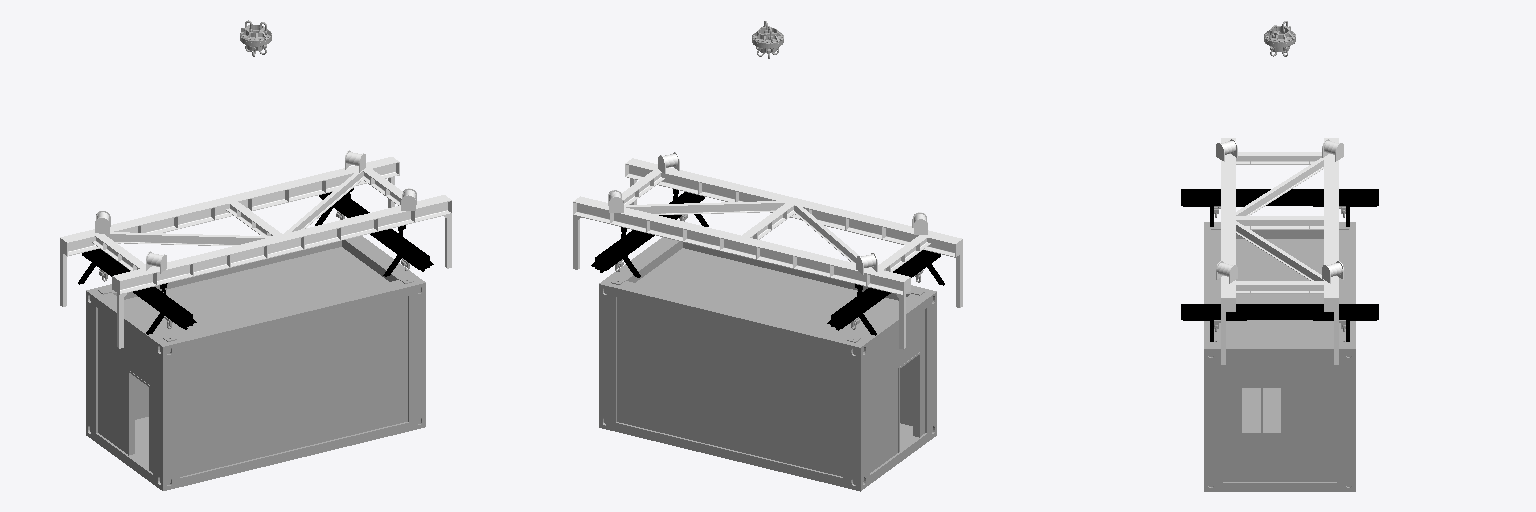
The robot description file, URDF, robot "hypa":
<?xml version="1.0" encoding="utf-8"?>
<!-- This URDF was automatically created by SolidWorks to URDF Exporter! Originally created by Stephen Brawner (brawner@gmail.com) 
     Commit Version: 1.6.0-4-g7f85cfe  Build Version: 1.6.7995.38578
     For more information, please see http://wiki.ros.org/sw_urdf_exporter -->
<robot
  name="hypa">
  <link
    name="base_link">
    <inertial>
      <origin
        xyz="-1.207E-09 3.1784E-09 -0.085377"
        rpy="0 0 0" />
      <mass
        value="386.11" />
      <inertia
        ixx="9.9128"
        ixy="0.13248"
        ixz="-9.8621E-08"
        iyy="9.881"
        iyz="-1.8585E-07"
        izz="18.221" />
    </inertial>
    <visual>
      <origin
        xyz="0 0 0"
        rpy="0 0 0" />
      <geometry>
        <mesh
          filename="package://hypa/meshes/base_link.STL" />
      </geometry>
      <material
        name="">
        <color
          rgba="0.75294 0.75294 0.75294 1" />
      </material>
    </visual>
    <collision>
      <origin
        xyz="0 0 0"
        rpy="0 0 0" />
      <geometry>
        <mesh
          filename="package://hypa/meshes/base_link.STL" />
      </geometry>
    </collision>
  </link>
  <link
    name="main_link">
    <inertial>
      <origin
        xyz="1.5384E-06 -7.9647E-06 -0.081467"
        rpy="0 0 0" />
      <mass
        value="2317.1" />
      <inertia
        ixx="2152"
        ixy="-0.00081995"
        ixz="-0.00016841"
        iyy="11953"
        iyz="0.0011132"
        izz="13870" />
    </inertial>
    <visual>
      <origin
        xyz="0 0 0"
        rpy="0 0 0" />
      <geometry>
        <mesh
          filename="package://hypa/meshes/main_link.STL" />
      </geometry>
      <material
        name="">
        <color
          rgba="1 1 1 1" />
      </material>
    </visual>
    <collision>
      <origin
        xyz="0 0 0"
        rpy="0 0 0" />
      <geometry>
        <mesh
          filename="package://hypa/meshes/main_link.STL" />
      </geometry>
    </collision>
  </link>
  <joint
    name="dummy_link_joint"
    type="prismatic">
    <origin
      xyz="0 0 -4.2"
      rpy="0 0 0" />
    <parent
      link="base_link" />
    <child
      link="main_link" />
    <axis
      xyz="-0.5863 -0.21593 0.78078" />
    <limit
      lower="0"
      upper="0"
      effort="0"
      velocity="0" />
  </joint>
  <link
    name="secondary_link">
    <inertial>
      <origin
        xyz="9.2715E-05 4.4503E-05 -0.0068453"
        rpy="0 0 0" />
      <mass
        value="926.8" />
      <inertia
        ixx="912.74"
        ixy="6.0283E-08"
        ixz="3.2016E-13"
        iyy="12.877"
        iyz="-6.4402E-11"
        izz="907.59" />
    </inertial>
    <visual>
      <origin
        xyz="0 0 0"
        rpy="0 0 0" />
      <geometry>
        <mesh
          filename="package://hypa/meshes/secondary_link.STL" />
      </geometry>
      <material
        name="">
        <color
          rgba="0 0 0 1" />
      </material>
    </visual>
    <collision>
      <origin
        xyz="0 0 0"
        rpy="0 0 0" />
      <geometry>
        <mesh
          filename="package://hypa/meshes/secondary_link.STL" />
      </geometry>
    </collision>
  </link>
  <joint
    name="secondary_link_joint"
    type="prismatic">
    <origin
      xyz="0 0 -0.7202"
      rpy="0 0 0" />
    <parent
      link="main_link" />
    <child
      link="secondary_link" />
    <axis
      xyz="-1 0 0" />
    <limit
      lower="0"
      upper="0"
      effort="0"
      velocity="0" />
  </joint>
  <link
    name="slide_link">
    <inertial>
      <origin
        xyz="0.021957 0.010531 1.5253"
        rpy="0 0 0" />
      <mass
        value="34539" />
      <inertia
        ixx="83582"
        ixy="490.34"
        ixz="1014.2"
        iyy="174690"
        iyz="163.74"
        izz="189290" />
    </inertial>
    <visual>
      <origin
        xyz="0 0 0"
        rpy="0 0 0" />
      <geometry>
        <mesh
          filename="package://hypa/meshes/slide_link.STL" />
      </geometry>
      <material
        name="">
        <color
          rgba="0.75294 0.75294 0.75294 1" />
      </material>
    </visual>
    <collision>
      <origin
        xyz="0 0 0"
        rpy="0 0 0" />
      <geometry>
        <mesh
          filename="package://hypa/meshes/slide_link.STL" />
      </geometry>
    </collision>
  </link>
  <joint
    name="slide_link_joint"
    type="prismatic">
    <origin
      xyz="0 0 -3.7798"
      rpy="0 0 0" />
    <parent
      link="secondary_link" />
    <child
      link="slide_link" />
    <axis
      xyz="0 1 0" />
    <limit
      lower="0"
      upper="0"
      effort="0"
      velocity="0" />
  </joint>
</robot>

--- Render facts (derived) ---
3 views of the same robot in one strip: view 1: azimuth 30°, elevation 25°; view 2: azimuth 150°, elevation 25°; view 3: azimuth 270°, elevation 25° (orthographic).
Model hypa with 4 links and 3 joints (3 prismatic), rooted at base_link, posed all joints at 0.
Visible links, largest first — view 1: slide_link, main_link, secondary_link, base_link; view 2: slide_link, main_link, secondary_link, base_link; view 3: slide_link, main_link, secondary_link, base_link.
Boxes of the visible links, box(x1,y1,x2,y2) form: slide_link: box(86, 211, 425, 490); main_link: box(60, 150, 451, 348); secondary_link: box(78, 188, 433, 334); base_link: box(240, 20, 271, 56); slide_link: box(599, 214, 936, 491); main_link: box(573, 152, 962, 349); secondary_link: box(591, 189, 944, 335); base_link: box(752, 21, 783, 58); slide_link: box(1204, 206, 1355, 491); main_link: box(1216, 138, 1343, 364); secondary_link: box(1181, 189, 1378, 341); base_link: box(1264, 21, 1295, 56).
Size in the robot's own frame: 7.7 by 4 by 9.07 metres.
4 mesh visuals loaded from 4 distinct referenced files (4 binary STL).
